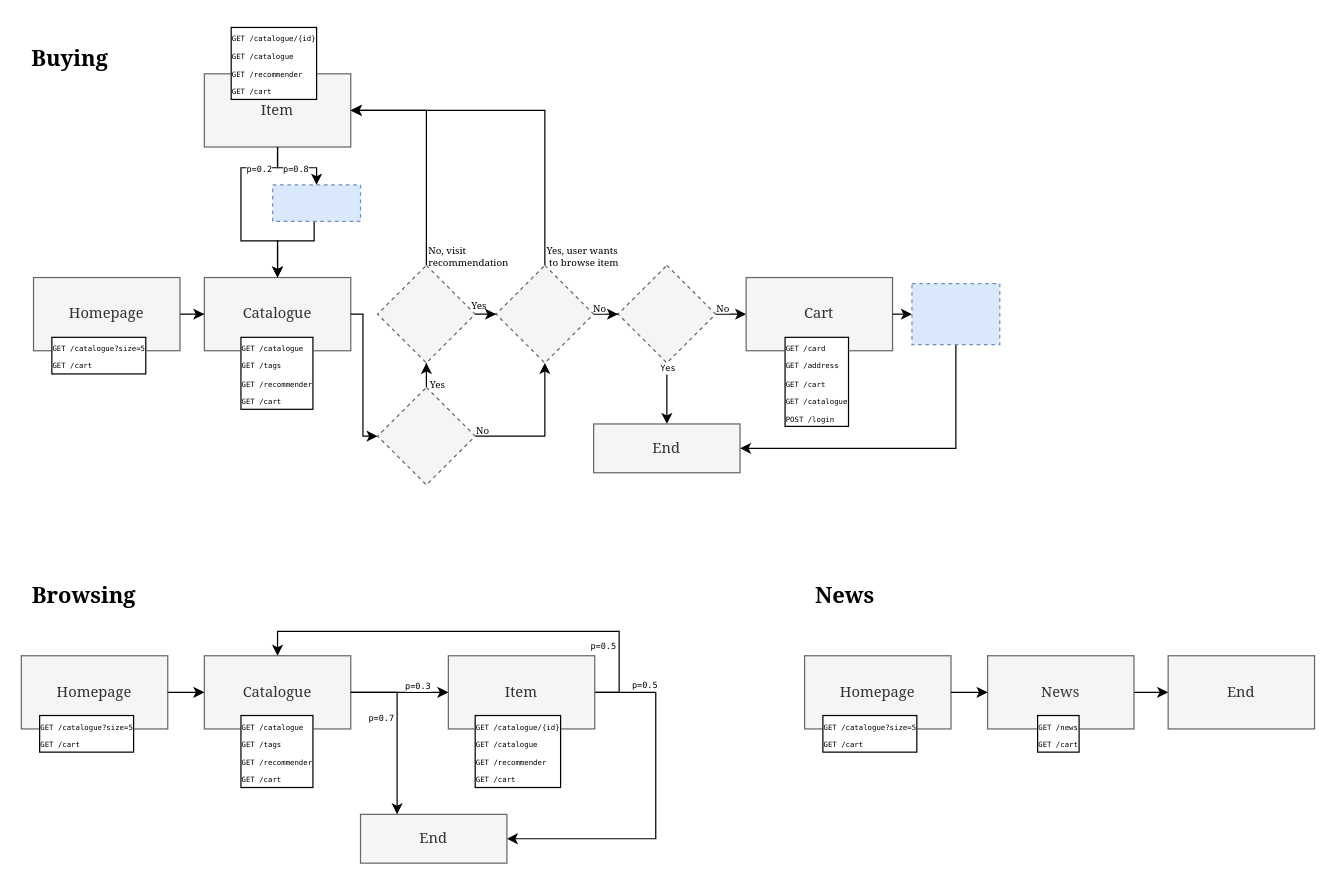
Some shapes in this 1336 by 885 pixel diagram are drawn without their labels. The centre of each missing label's shape, as x and y in pixels:
Add item to cart POST /cart: (x=316, y=202)
Already visited recommend- ation?: (x=425, y=313)
Cart empty?: (x=666, y=313)
Check out cart POST /orders DELETE /cart: (x=955, y=313)
Random number <= 0.8?: (x=544, y=313)
Recommend- ation exists?: (x=425, y=435)
